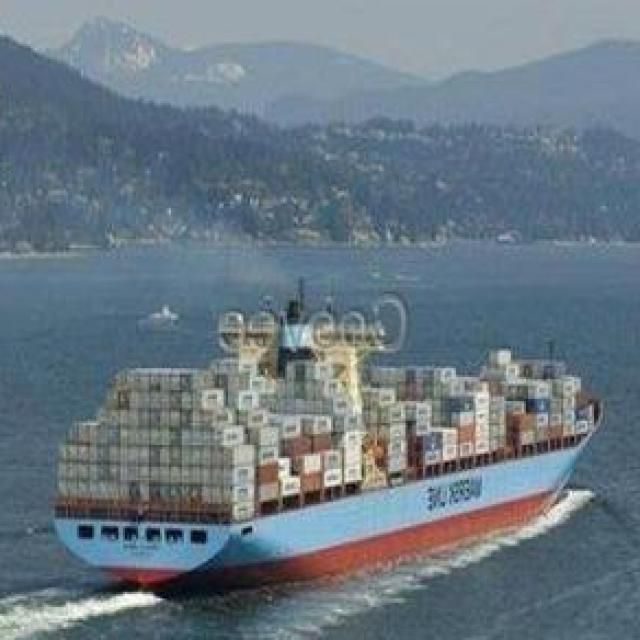cargoship: (57, 281, 605, 586)
